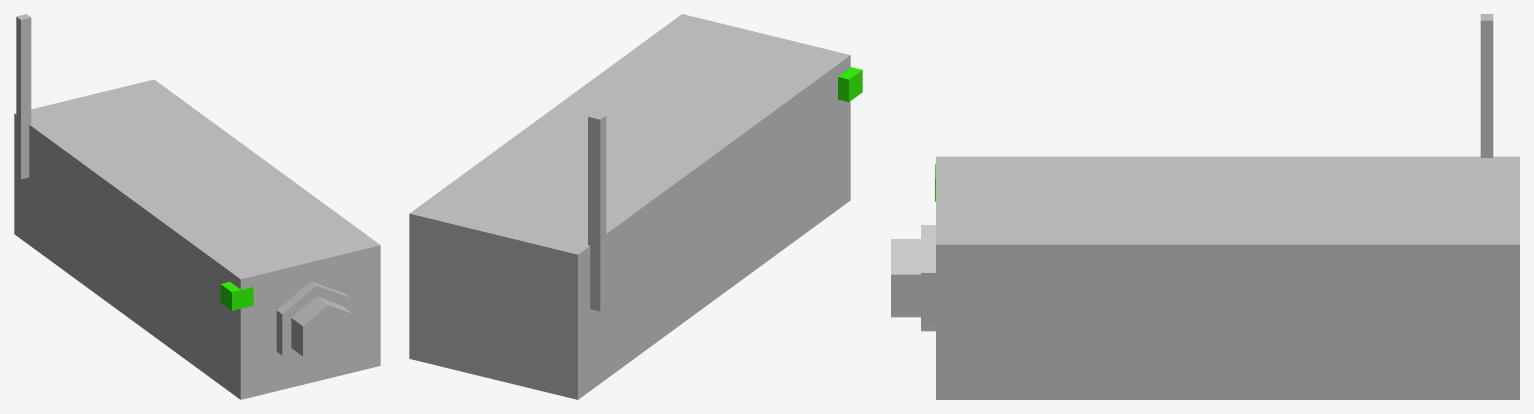
The model's file is camera01b.fbx.
The picture shows the model from 3 angles, left to right: view 1: azimuth 30°, elevation 25°; view 2: azimuth 150°, elevation 25°; view 3: azimuth 270°, elevation 25°; orthographic projection. The views are drawn at different scales.
Parts seen in each view (by area): view 1: camera01b; view 2: camera01b; view 3: camera01b.
Part boxes in pixels (left/top/right/bottom): camera01b: left=14, top=14, right=380, bottom=399; camera01b: left=409, top=14, right=862, bottom=399; camera01b: left=891, top=14, right=1519, bottom=399.
Bounding box in the file's own units: 17.74 × 25.79 × 50.19.
